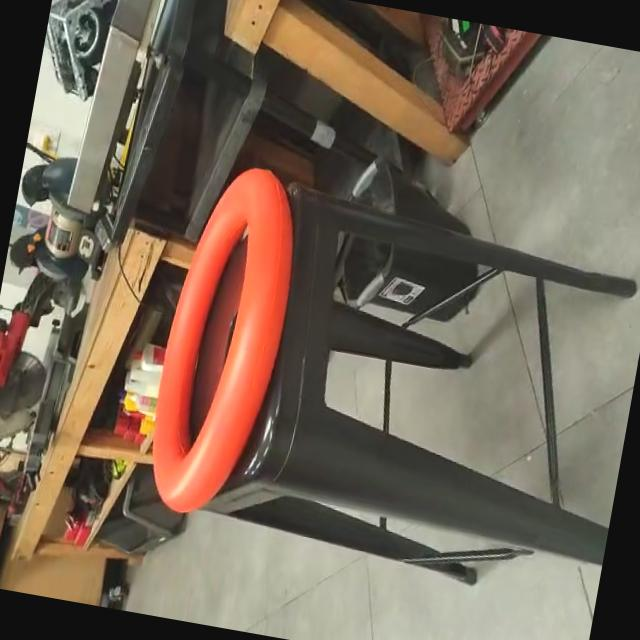note: (133, 155, 316, 532)
